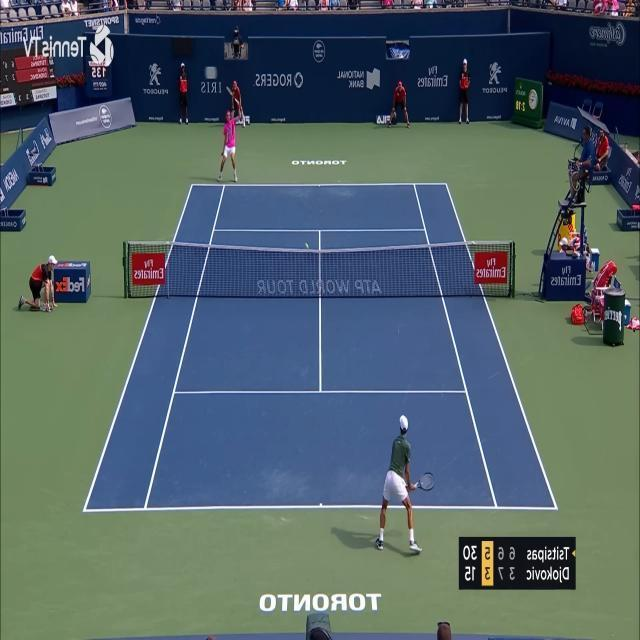court: (82, 182, 559, 512)
net: (122, 240, 516, 300)
player: (374, 414, 422, 554)
